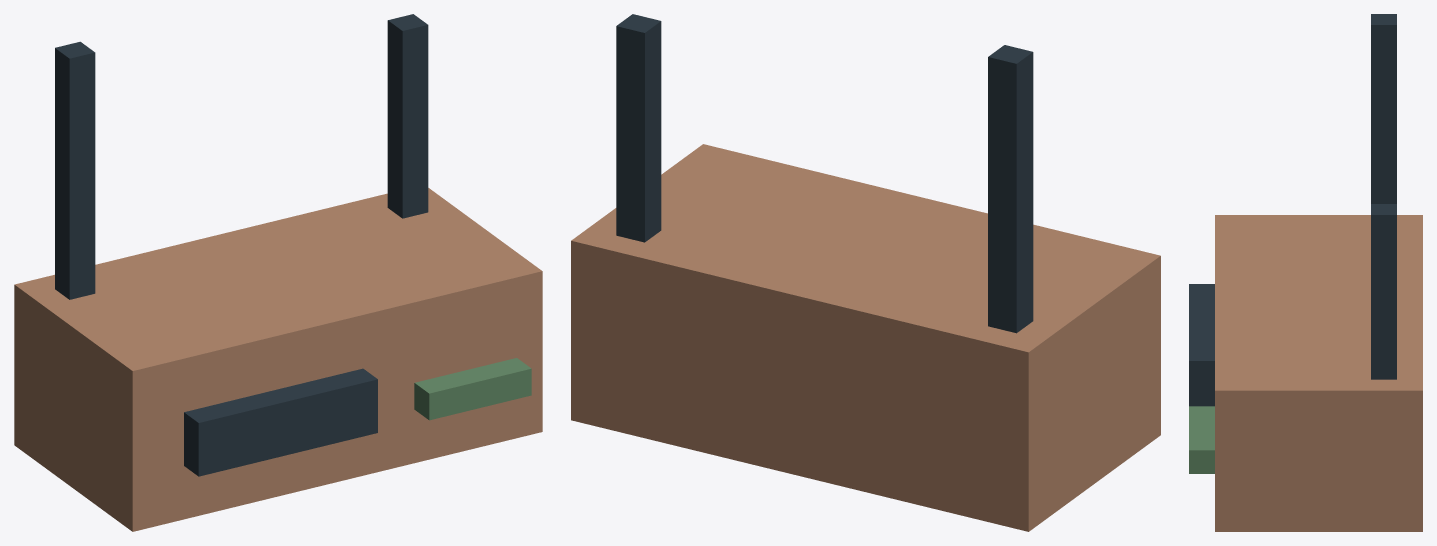
Rendered from music-14.glb.
The picture shows the model from 3 angles, left to right: view 1: azimuth 30°, elevation 25°; view 2: azimuth 150°, elevation 25°; view 3: azimuth 270°, elevation 25°; orthographic projection. The views are drawn at different scales.
Visible parts, largest first — view 1: Tape deck; view 2: Tape deck; view 3: Tape deck.
Part boxes in pixels (x1=…): Tape deck: x1=14, y1=14, x2=542, y2=531; Tape deck: x1=571, y1=14, x2=1160, y2=531; Tape deck: x1=1189, y1=14, x2=1422, y2=531.
Bounding box in the file's own units: 1.28 × 1.2 × 0.72.
